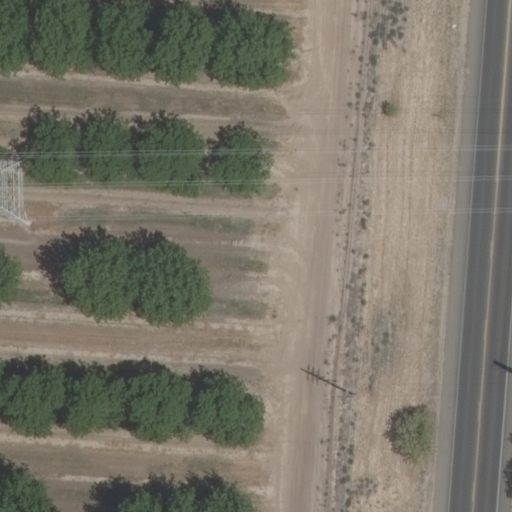DT: (342, 387, 360, 403)
